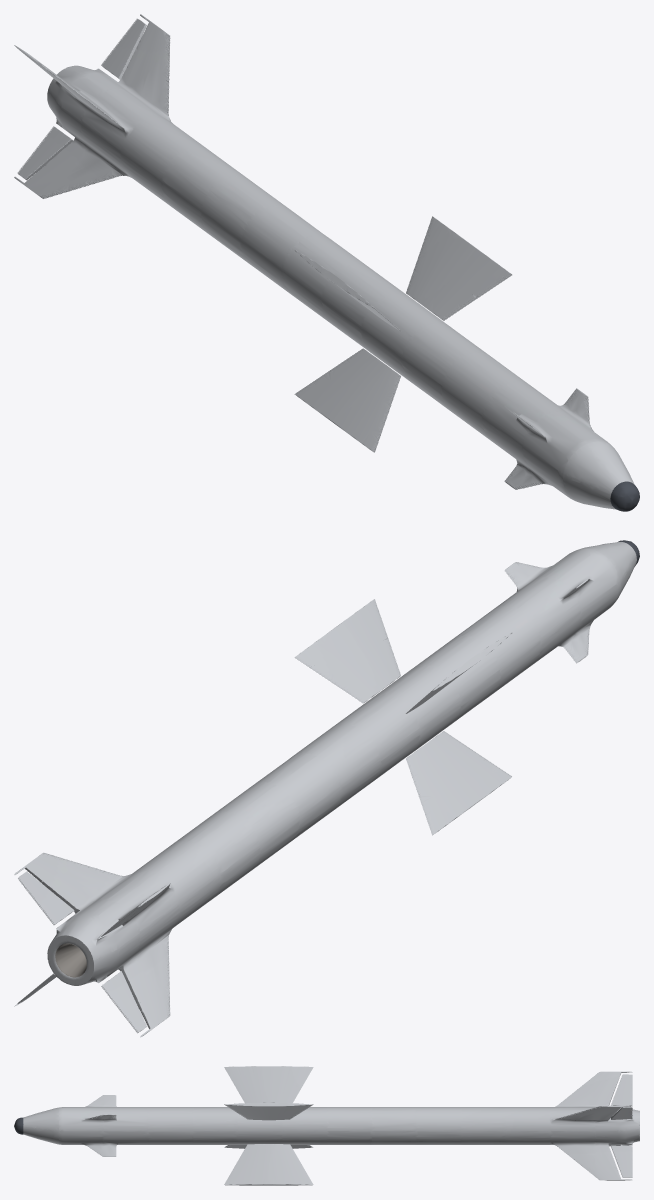
3 views of the same model, one above another, from view 1: azimuth 30°, elevation 25°; view 2: azimuth 150°, elevation 25°; view 3: azimuth 270°, elevation 25° (orthographic). The views are drawn at different scales.
Visible parts, largest first — view 1: airframe, fsim:fin:78490819:1|elevator+aileron:-1+rudder:1@-20,20, fsim:fin:1039161249:1|elevator+aileron:1+rudder:1@-20,20, fsim:fin:1840229509:1|aileron, fsim:fin:2220773358:-1|aileron, fsim:fin:2245752368:1|elevator+aileron:-1+rudder:-1@-20,20; view 2: airframe, fsim:fin:1039161249:1|elevator+aileron:1+rudder:1@-20,20, fsim:fin:78490819:1|elevator+aileron:-1+rudder:1@-20,20, fsim:fin:1840229509:1|aileron, fsim:fin:2220773358:-1|aileron, fsim:fin:2245752368:1|elevator+aileron:-1+rudder:-1@-20,20; view 3: airframe, fsim:fin:432374493:1|elevator+aileron:1+rudder:-1@-20,20, fsim:fin:2245752368:1|elevator+aileron:-1+rudder:-1@-20,20, fsim:fin:1039161249:1|elevator+aileron:1+rudder:1@-20,20, fsim:fin:1553608011:1|aileron, fsim:fin:3746655808:-1|aileron, fsim:fin:1840229509:1|aileron.
Boxes of the visible parts, box(x1,y1,x2,y2) form: airframe: box(14, 14, 639, 511); fsim:fin:78490819:1|elevator+aileron:-1+rudder:1@-20,20: box(294, 348, 400, 452); fsim:fin:1039161249:1|elevator+aileron:1+rudder:1@-20,20: box(406, 216, 511, 320); fsim:fin:1840229509:1|aileron: box(101, 18, 146, 79); fsim:fin:2220773358:-1|aileron: box(17, 126, 73, 180); fsim:fin:2245752368:1|elevator+aileron:-1+rudder:-1@-20,20: box(294, 250, 400, 331); airframe: box(14, 540, 639, 1037); fsim:fin:1039161249:1|elevator+aileron:1+rudder:1@-20,20: box(294, 599, 400, 703); fsim:fin:78490819:1|elevator+aileron:-1+rudder:1@-20,20: box(406, 731, 511, 835); fsim:fin:1840229509:1|aileron: box(18, 871, 74, 924); fsim:fin:2220773358:-1|aileron: box(101, 971, 146, 1033); fsim:fin:2245752368:1|elevator+aileron:-1+rudder:-1@-20,20: box(406, 632, 512, 713); airframe: box(14, 1071, 639, 1180); fsim:fin:432374493:1|elevator+aileron:1+rudder:-1@-20,20: box(224, 1144, 313, 1185); fsim:fin:2245752368:1|elevator+aileron:-1+rudder:-1@-20,20: box(224, 1066, 313, 1103); fsim:fin:1039161249:1|elevator+aileron:1+rudder:1@-20,20: box(224, 1102, 313, 1120); fsim:fin:1553608011:1|aileron: box(611, 1145, 632, 1177); fsim:fin:3746655808:-1|aileron: box(611, 1074, 632, 1105); fsim:fin:1840229509:1|aileron: box(611, 1107, 632, 1119).
Size of the model in its own units: 0.5551 by 0.5555 by 3.79.
Materials: 4 (1 with a texture image).
